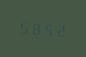eight: (30, 19, 41, 36)
five: (18, 18, 29, 36), (42, 19, 53, 37)
two: (54, 20, 65, 38)
